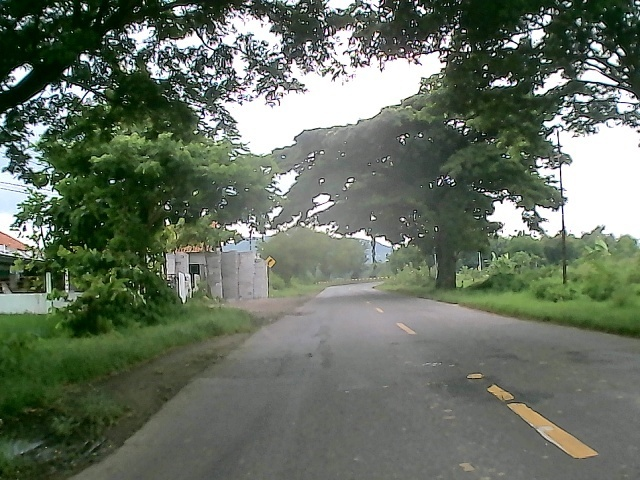Tikungan ke kanan: (264, 254, 276, 269)
